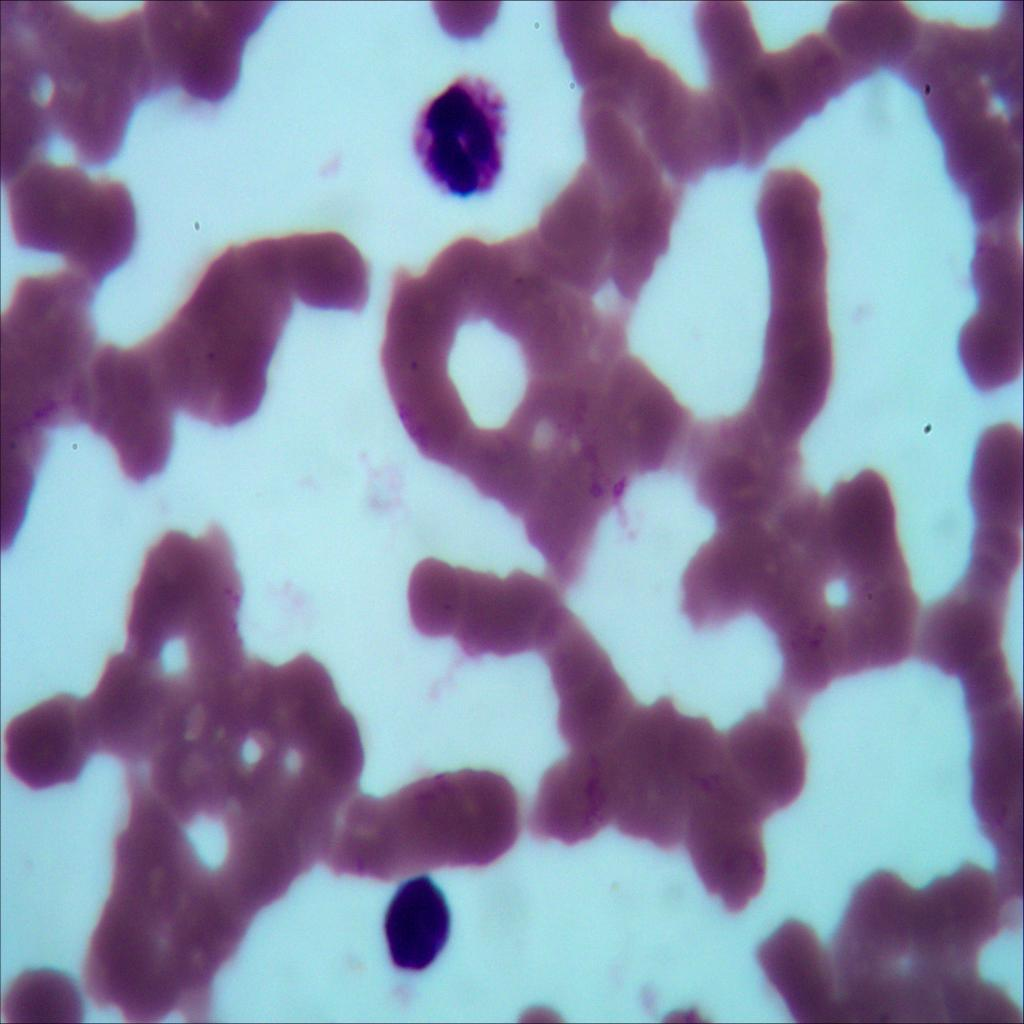Limfoblast: (365, 854, 467, 998)
Neutrofil: (411, 72, 516, 209)
